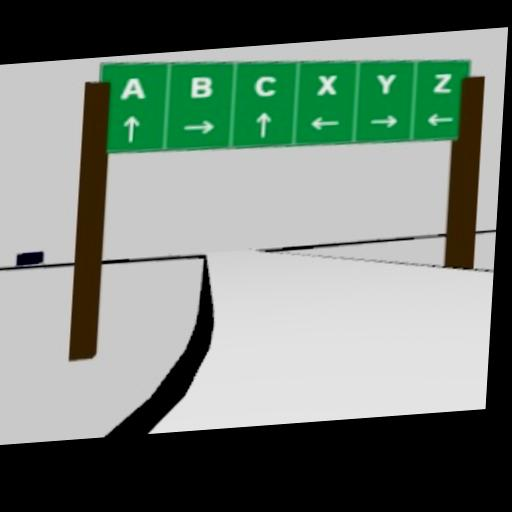A: (120, 76, 147, 100)
B: (189, 75, 213, 98)
C: (252, 73, 277, 97)
Left: (308, 114, 340, 130), (426, 111, 454, 127)
Right: (182, 119, 215, 136), (368, 113, 398, 129)
Straight: (121, 114, 141, 142), (253, 110, 272, 138)
X: (316, 74, 337, 95)
Y: (376, 73, 397, 95)
Z: (432, 72, 453, 93)
